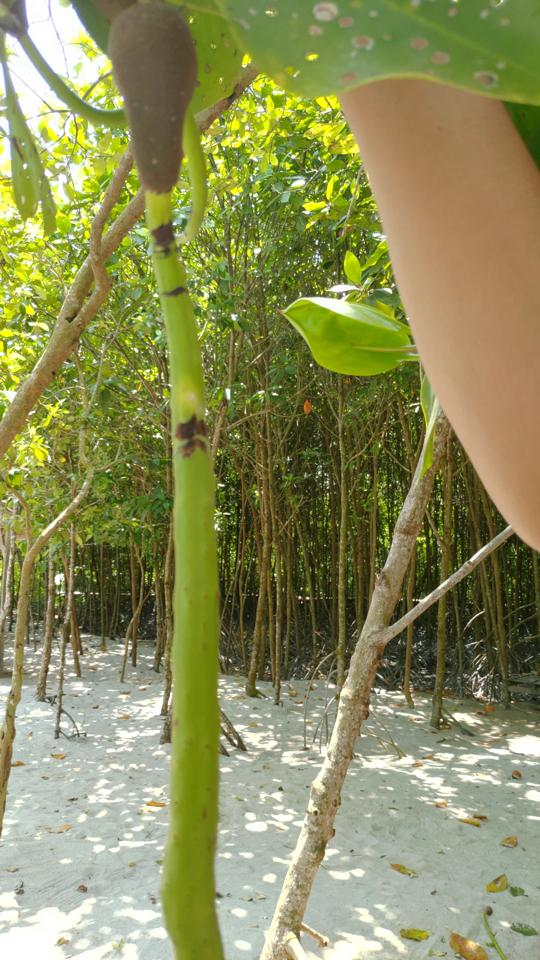setengah matang: (100, 4, 239, 956)
